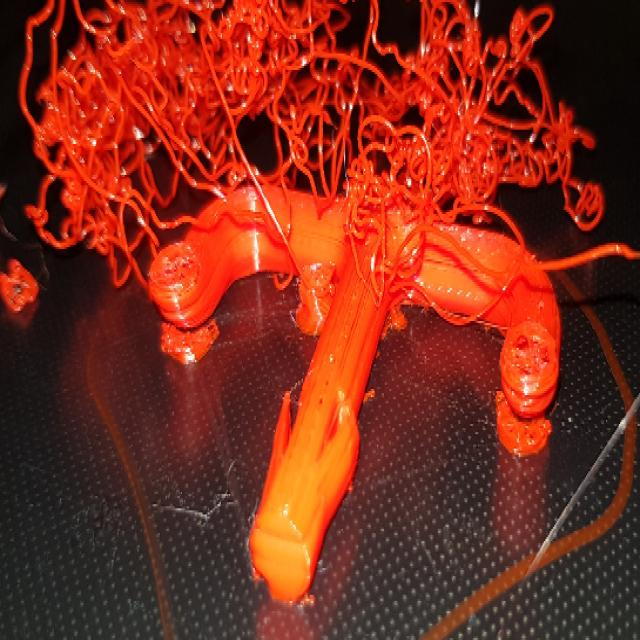spaghetti: (37, 9, 615, 335)
